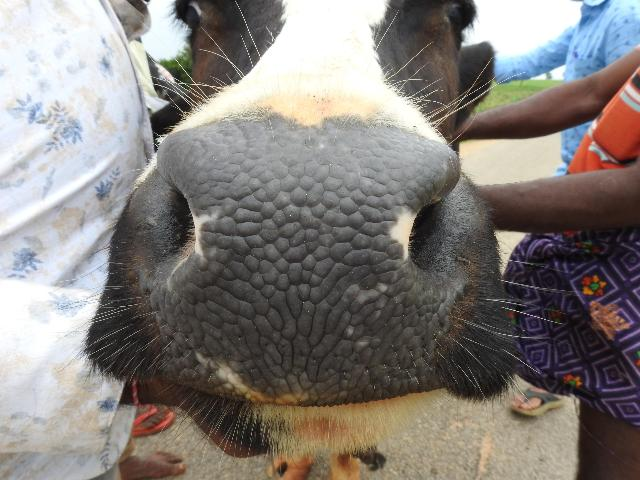Muzzle: (165, 139, 431, 409)
